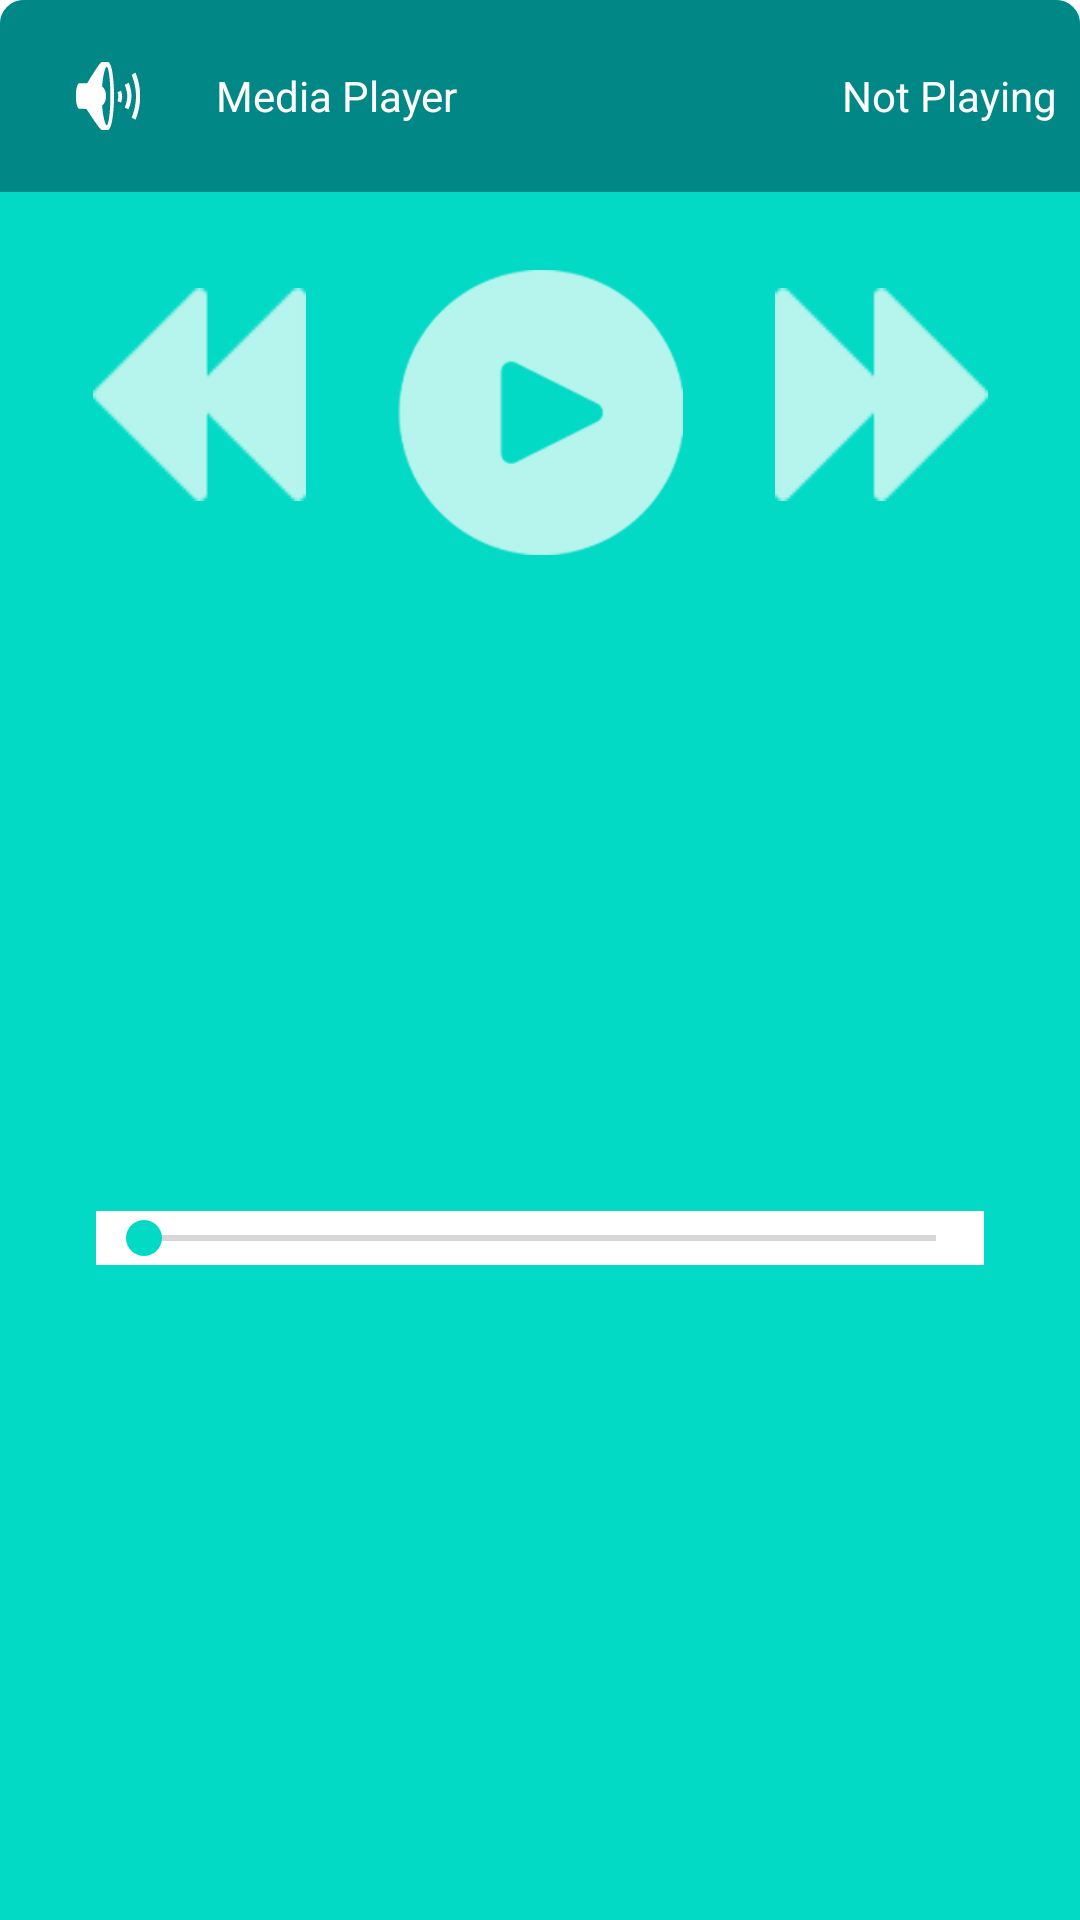

Where to tap for icons on this 1080w x 1920h app screen, as point (x, y):
backback: point (199, 394)
nextnext: point (881, 394)
